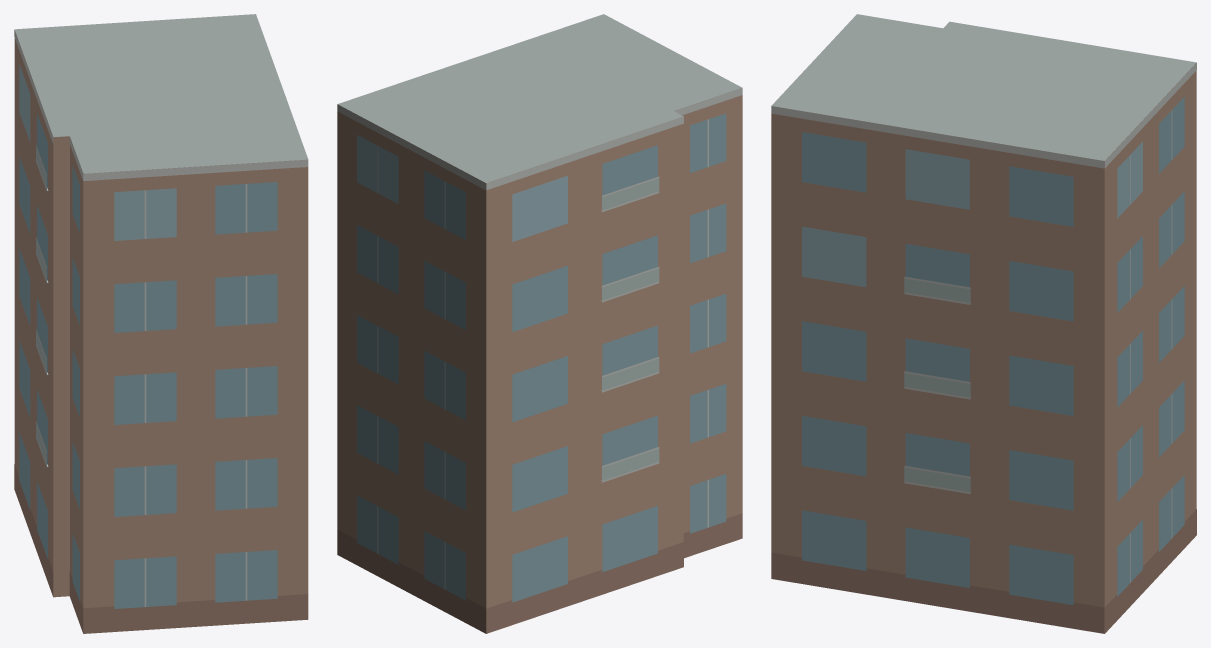
File: survey-upis-32724847.glb
3 views of the same model, side by side, from view 1: azimuth 30°, elevation 25°; view 2: azimuth 150°, elevation 25°; view 3: azimuth 270°, elevation 25° (orthographic). The views are drawn at different scales.
Visible parts, largest first — view 1: survey-upis-32724847.tmp; view 2: survey-upis-32724847.tmp; view 3: survey-upis-32724847.tmp.
Boxes of the visible parts, bbox=[...] form: survey-upis-32724847.tmp: bbox=[14, 14, 308, 633]; survey-upis-32724847.tmp: bbox=[337, 14, 742, 633]; survey-upis-32724847.tmp: bbox=[771, 14, 1196, 633].
Size of the model in its own units: 10.18 by 15.25 by 12.45.
